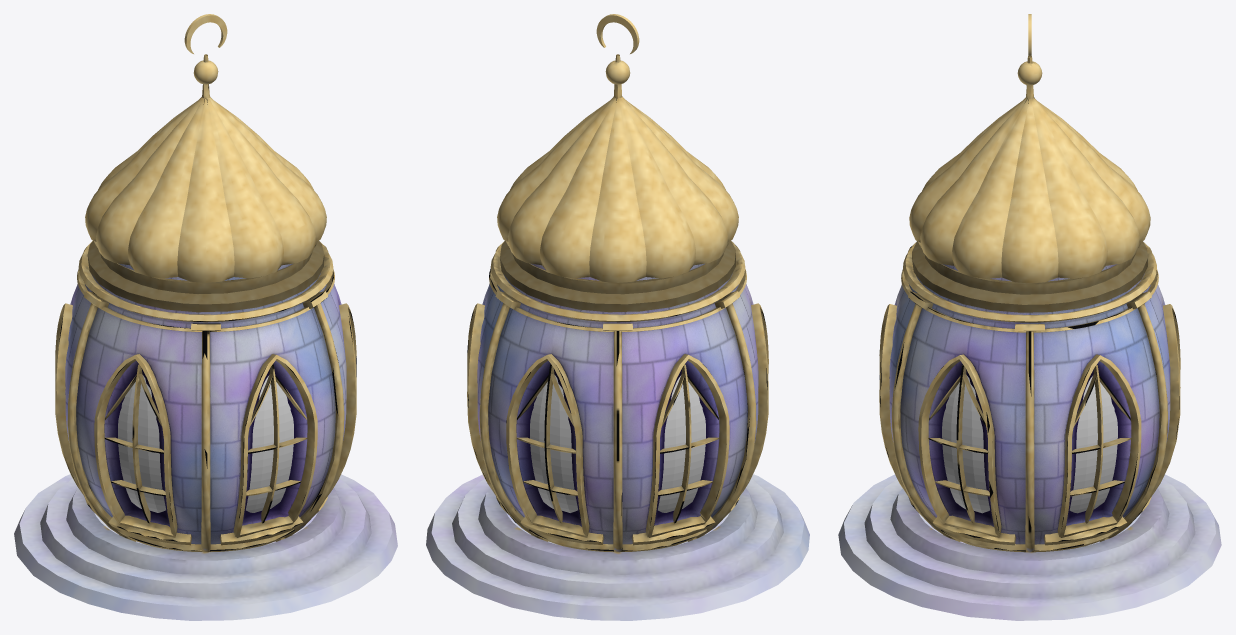
Rendered from AstralSanctumEgg.fbx.
3 views of the same model, side by side, from view 1: azimuth 30°, elevation 25°; view 2: azimuth 150°, elevation 25°; view 3: azimuth 270°, elevation 25° (orthographic).
Visible parts, largest first — view 1: AstralSanctumEgg_Body, AstralSanctumEgg_Glow_643cff; view 2: AstralSanctumEgg_Body, AstralSanctumEgg_Glow_643cff; view 3: AstralSanctumEgg_Body, AstralSanctumEgg_Glow_643cff.
Part boxes in pixels (box(x1,y1,x2,y2)): AstralSanctumEgg_Body: box(14, 14, 397, 620); AstralSanctumEgg_Glow_643cff: box(118, 375, 293, 512); AstralSanctumEgg_Body: box(426, 14, 809, 620); AstralSanctumEgg_Glow_643cff: box(530, 375, 705, 512); AstralSanctumEgg_Body: box(838, 14, 1221, 620); AstralSanctumEgg_Glow_643cff: box(942, 376, 1117, 513).
Size of the model in its own units: 2.64 by 3.98 by 2.64.
2 materials, 1 textured.
